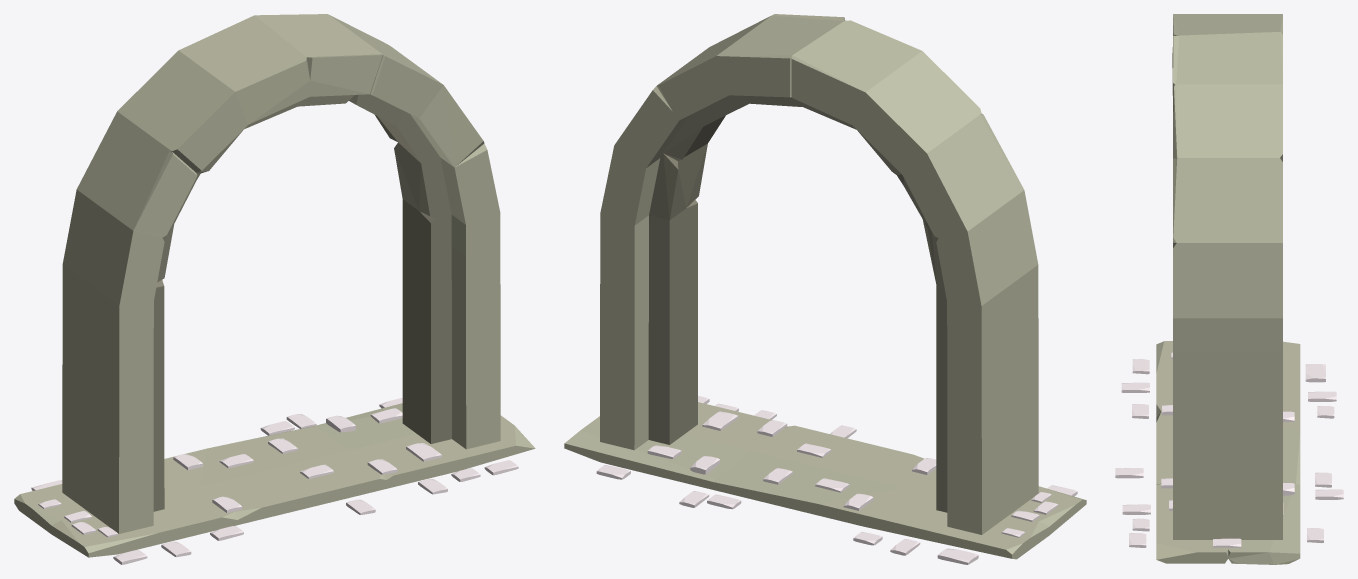
The model's file is portal.fbx.
3 views of the same model, side by side, from view 1: azimuth 30°, elevation 25°; view 2: azimuth 150°, elevation 25°; view 3: azimuth 270°, elevation 25° (orthographic). The views are drawn at different scales.
Parts seen in each view (by area): view 1: Cube.001; view 2: Cube.001; view 3: Cube.001.
Part boxes in pixels (bbox=[...]): Cube.001: bbox=[14, 14, 535, 564]; Cube.001: bbox=[564, 14, 1086, 564]; Cube.001: bbox=[1115, 14, 1343, 564].
Bounding box in the file's own units: 1984 × 1871 × 900.
